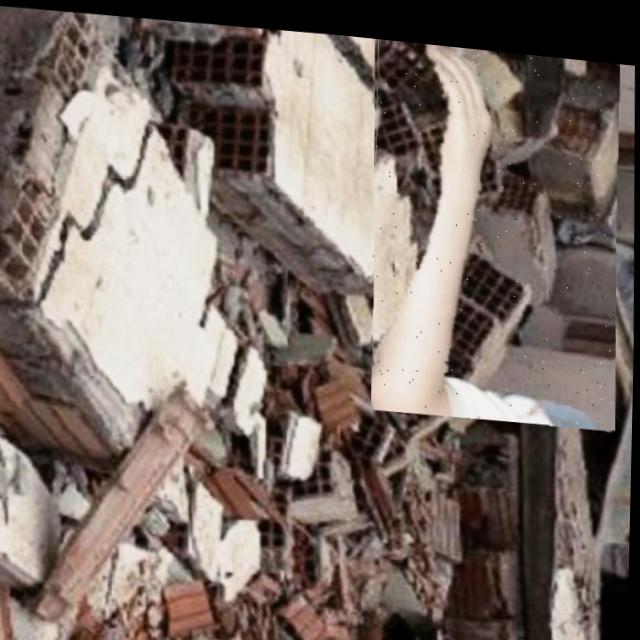Person in Rubble: (365, 30, 622, 422)
